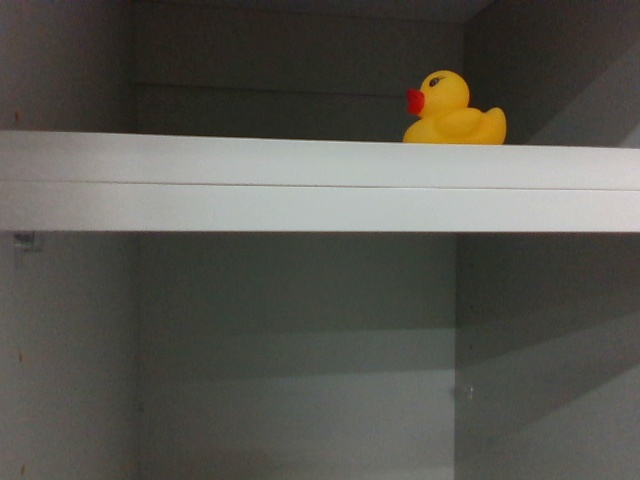duck: (399, 65, 512, 149)
